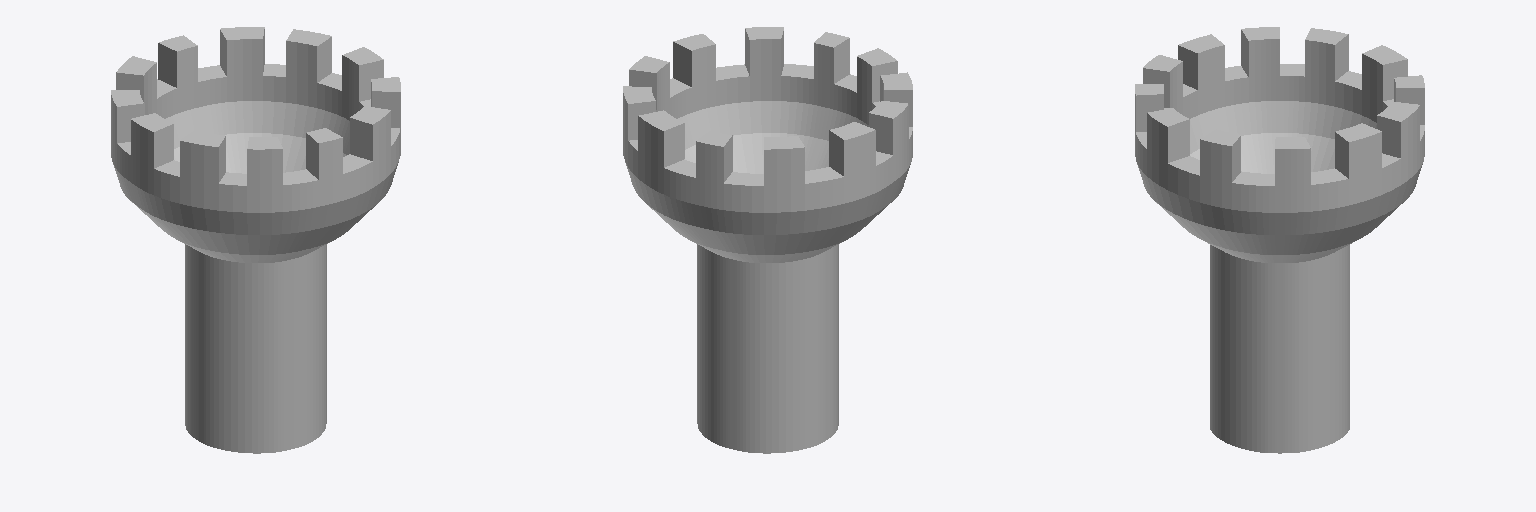
File: tower.obj
3 views of the same model, side by side, from view 1: azimuth 30°, elevation 25°; view 2: azimuth 150°, elevation 25°; view 3: azimuth 270°, elevation 25° (orthographic).
Parts seen in each view (by area): view 1: Surface; view 2: Surface; view 3: Surface.
Boxes of the visible parts, box(x1,y1,x2,y2) form: Surface: box(111, 27, 400, 453); Surface: box(623, 27, 912, 453); Surface: box(1135, 27, 1424, 453).
Size of the model in its own units: 2.06 by 2.64 by 2.06.